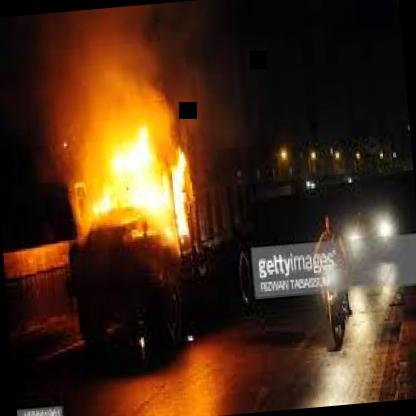fire: (68, 17, 202, 337)
